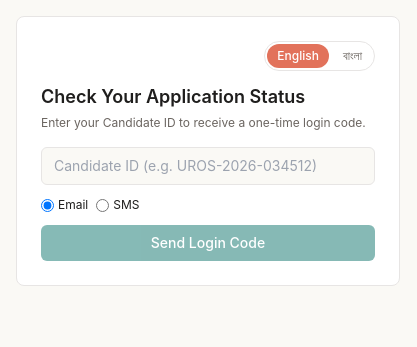
Test: ApplicantStatusPortal › requests an OTP and advances to the verify step
Step 1. Type "UROS-2026-000777" into the field with placeholder "Candidate ID (e.g. UROS-2026-034512)" → (208, 166), box top-left (41, 147), bottom-right (375, 185)
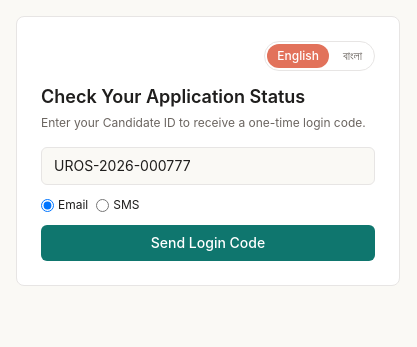
Step 2. Click the button "Send Login Code" → (208, 243), box top-left (41, 225), bottom-right (375, 261)
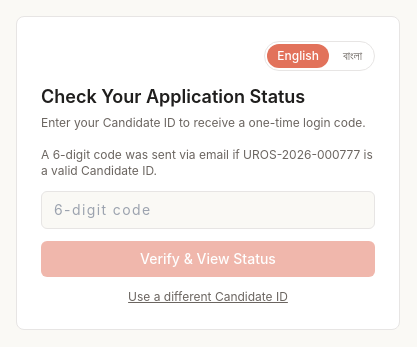
Result: the field with placeholder "6-digit code" is shown at top-left (41, 191), bottom-right (375, 229)
